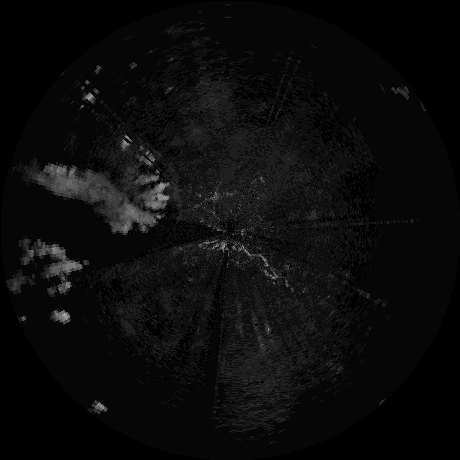frontgust: (162, 159, 183, 223)
